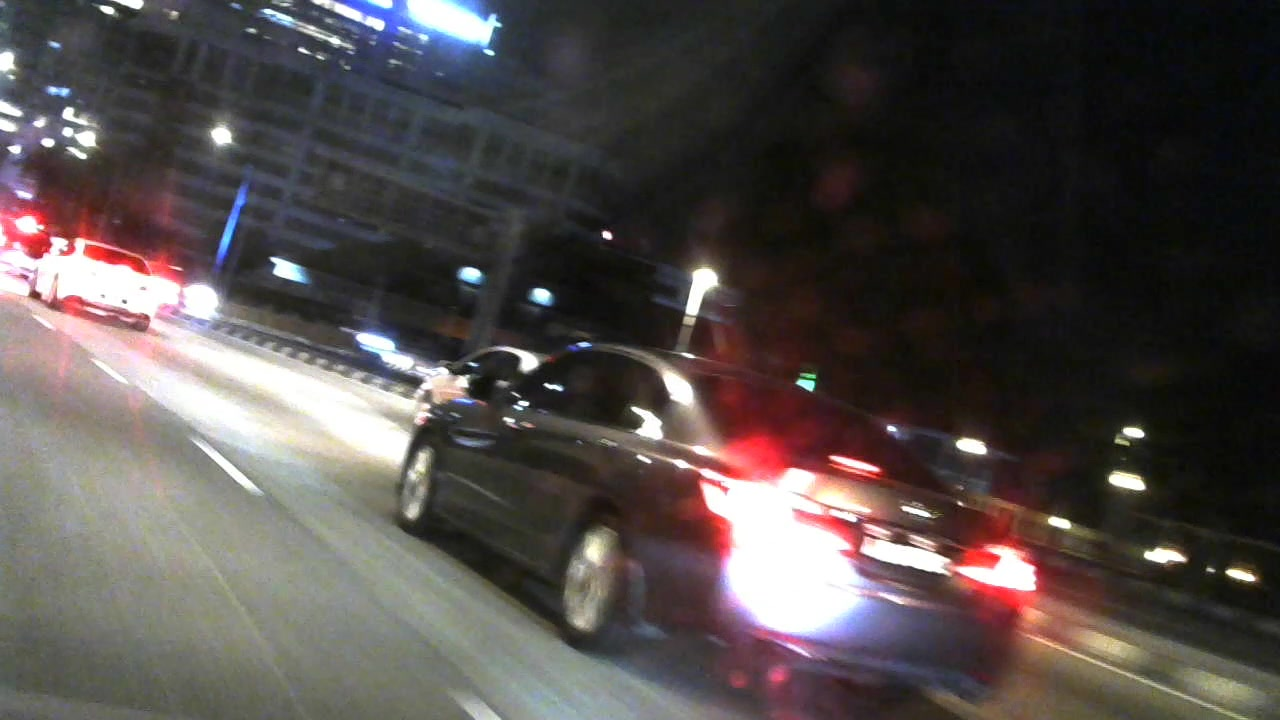Car: (394, 323, 1030, 711), (33, 235, 169, 335), (410, 335, 512, 419)
